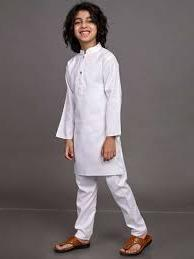NoHuman: (40, 0, 164, 255)
